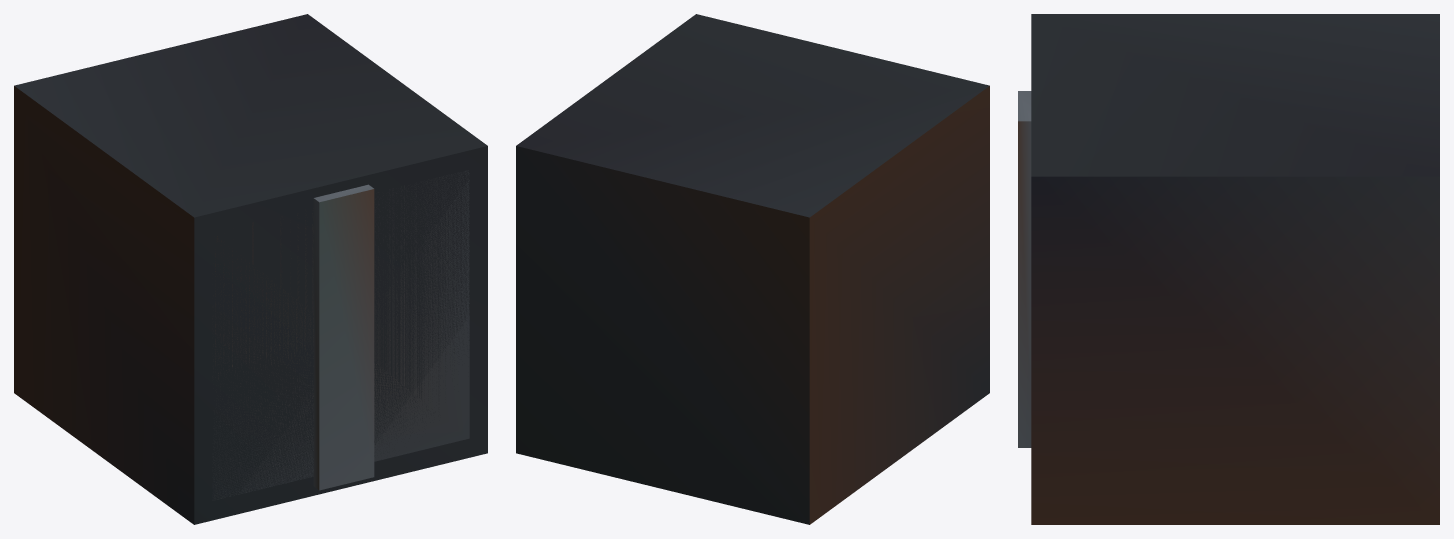
Rendered from tile_bulkhead.glb.
3 renders of one model, left to right at view 1: azimuth 30°, elevation 25°; view 2: azimuth 150°, elevation 25°; view 3: azimuth 270°, elevation 25°, orthographic. The views are drawn at different scales.
Parts seen in each view (by area): view 1: tile_bulkhead; view 2: tile_bulkhead; view 3: tile_bulkhead.
Part boxes in pixels (box(x1,y1,x2,y2)): tile_bulkhead: box(14, 14, 487, 524); tile_bulkhead: box(516, 14, 989, 524); tile_bulkhead: box(1018, 14, 1439, 524).
Bounding box in the file's own units: 32 × 32 × 35.1.
